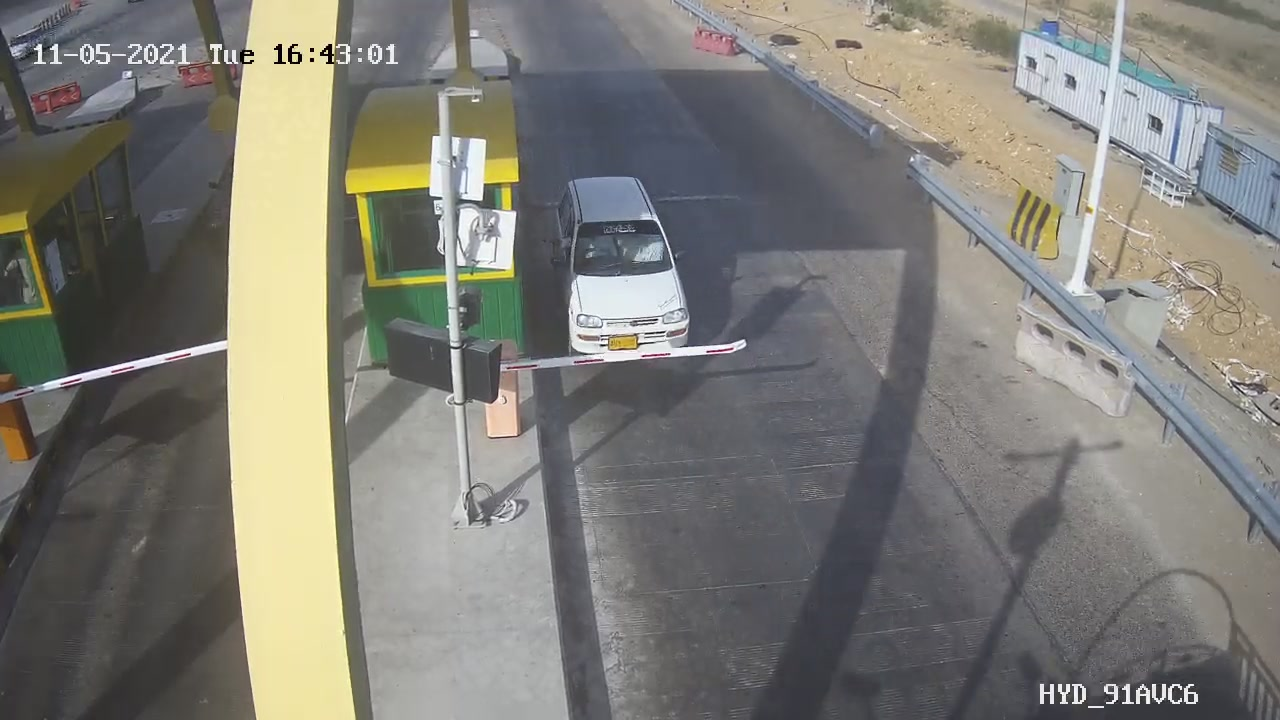F1: (531, 162, 724, 375)
